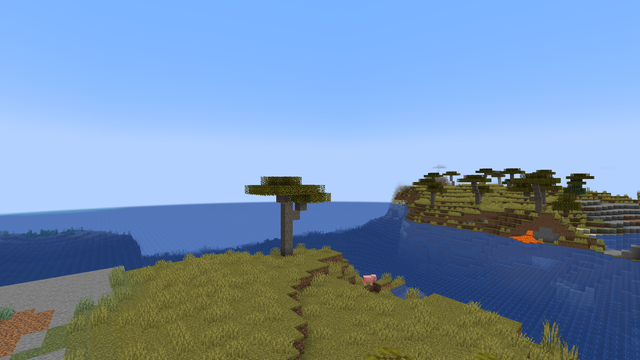cochons: (362, 274, 373, 286)
